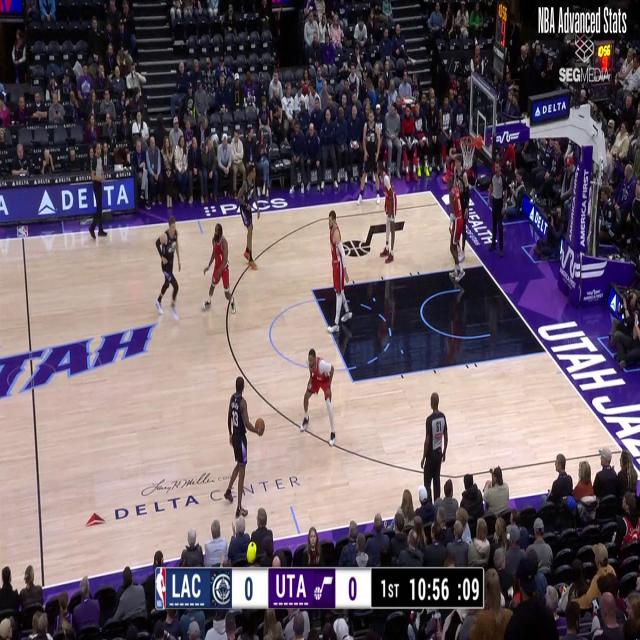ball: (252, 410, 268, 436)
judge: (420, 400, 447, 497), (487, 161, 510, 251), (88, 143, 106, 241)
player: (220, 377, 262, 506), (203, 221, 238, 324), (447, 148, 474, 259), (323, 216, 348, 334), (302, 357, 334, 443), (154, 219, 181, 319), (377, 164, 402, 268), (241, 165, 263, 274), (361, 106, 380, 203), (445, 181, 462, 282)
